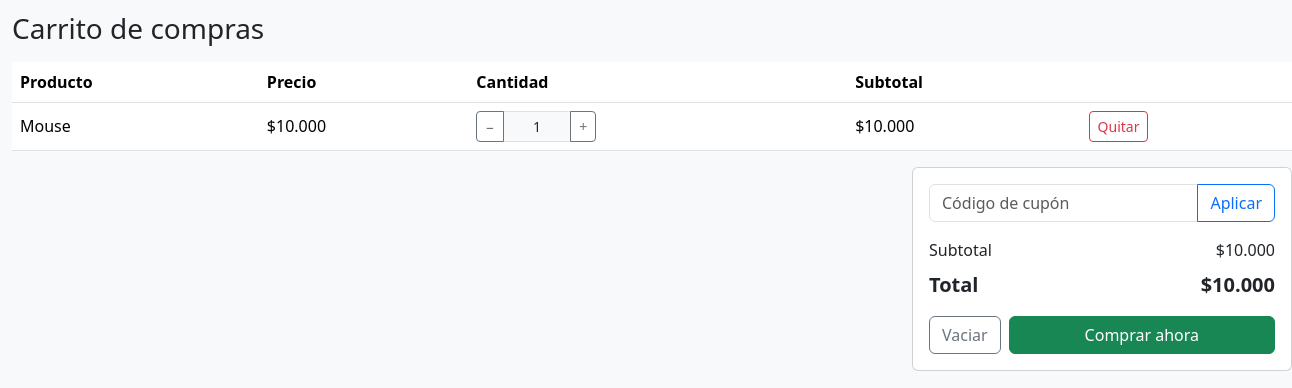
Test: Carrito (página) › aumentar la cantidad actualiza el total y respeta el stock
Click the button named "Aumentar cantidad de Mouse" at (583, 126), box [570,111,596,142]
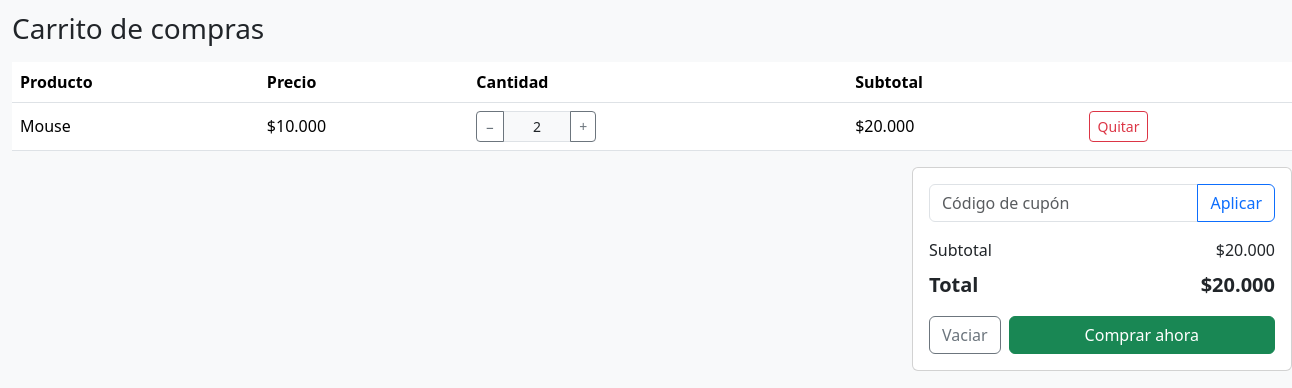
Click the button named "Aumentar cantidad de Mouse" at (583, 126), box [570,111,596,142]
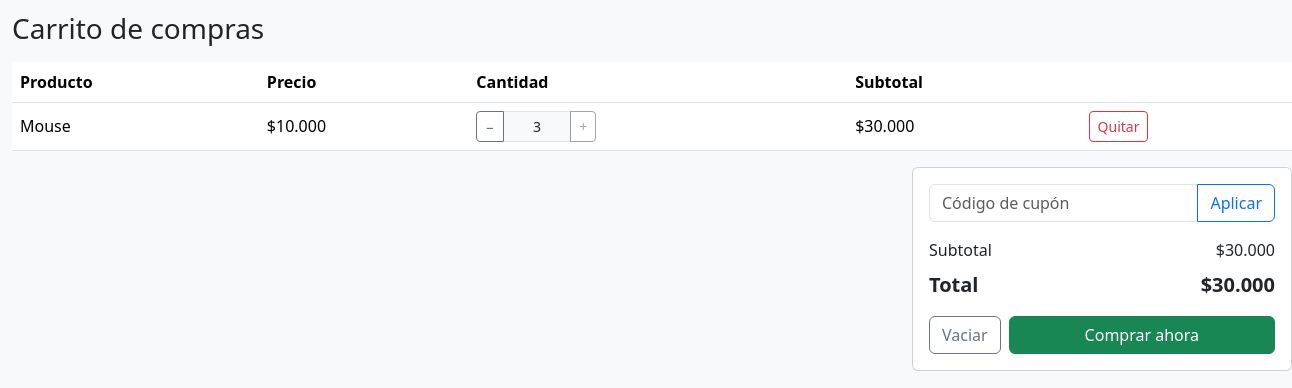
Result: the button named "Aumentar cantidad de Mouse" is disabled at [570,111,596,142]
